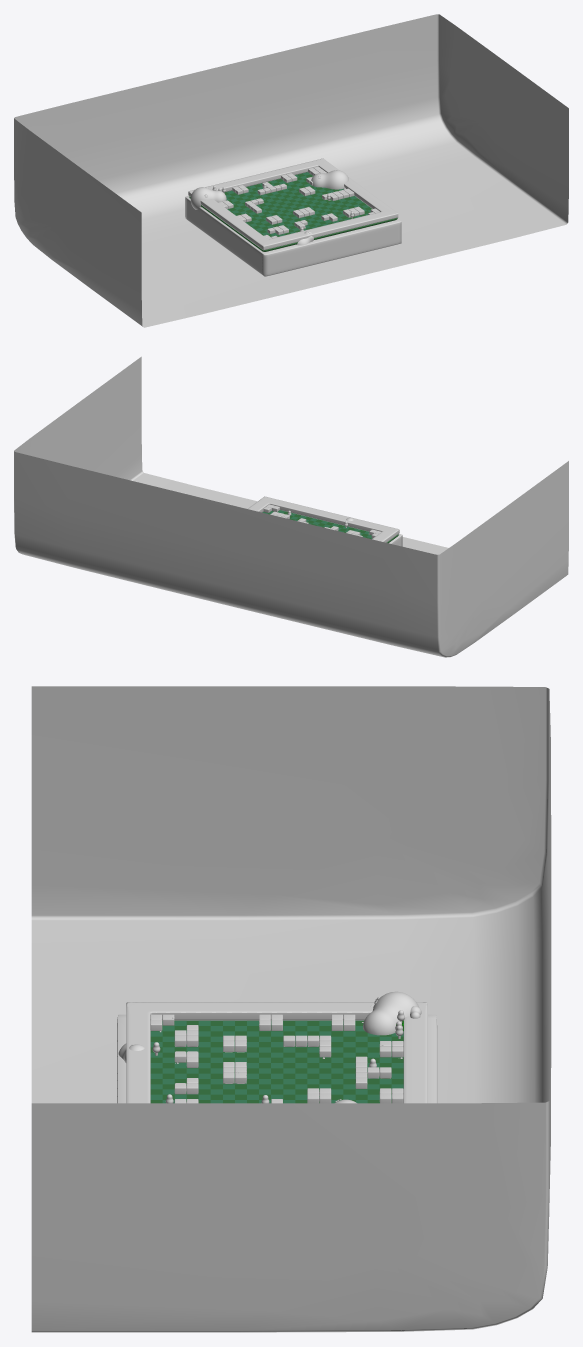
The model's file is RoundOne3_SCENE.fbx.
3 views of the same model, one above another, from view 1: azimuth 30°, elevation 25°; view 2: azimuth 150°, elevation 25°; view 3: azimuth 270°, elevation 25° (orthographic). The views are drawn at different scales.
Parts seen in each view (by area): view 1: sky, Ground1, polySurface40, Ground3, Grass6, Grass4; view 2: sky, Ground3, polySurface40; view 3: sky, polySurface40, Ground3, Ground1, Grass4, Obstacle12.
Part boxes in pixels (x1,y1,x2,y2): sky: (14,14,568,327); Ground1: (185,196,401,276); polySurface40: (189,172,397,251); Ground3: (188,158,398,250); Grass6: (311,170,348,189); Grass4: (190,187,226,209); sky: (14,356,568,657); Ground3: (248,496,399,542); polySurface40: (262,510,398,543); sky: (31,686,551,1332); polySurface40: (150,1020,403,1103); Ground3: (126,1002,427,1103); Ground1: (117,1014,437,1103); Grass4: (363,991,419,1035); Obstacle12: (174,1025,198,1067).
Size of the model in its own units: 932 by 243 by 491.
